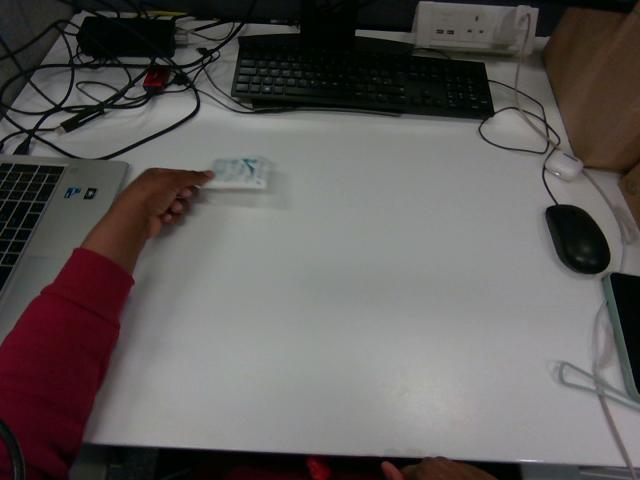gauze: (206, 156, 270, 189)
